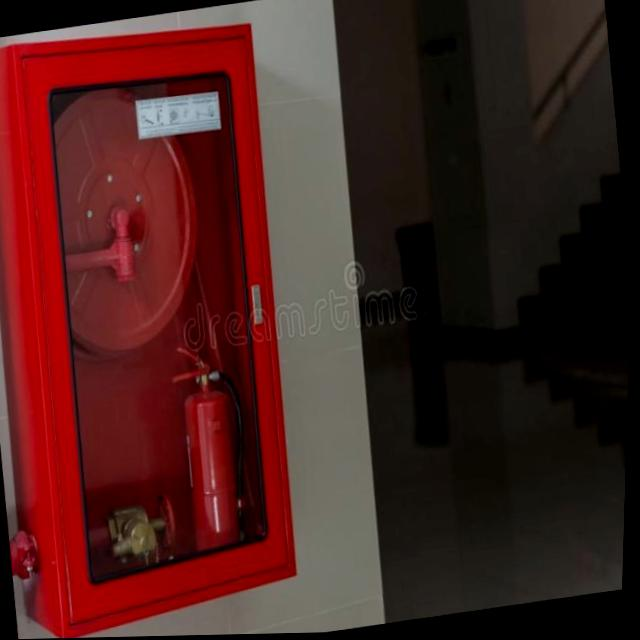FireExtinguisher: (161, 334, 263, 571)
